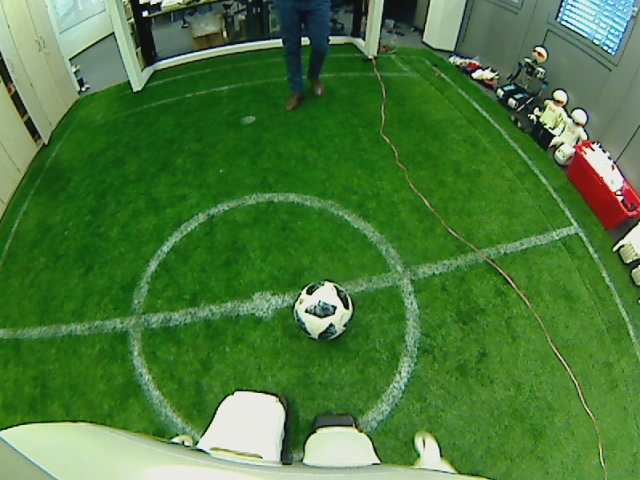ball: (291, 276, 354, 341)
